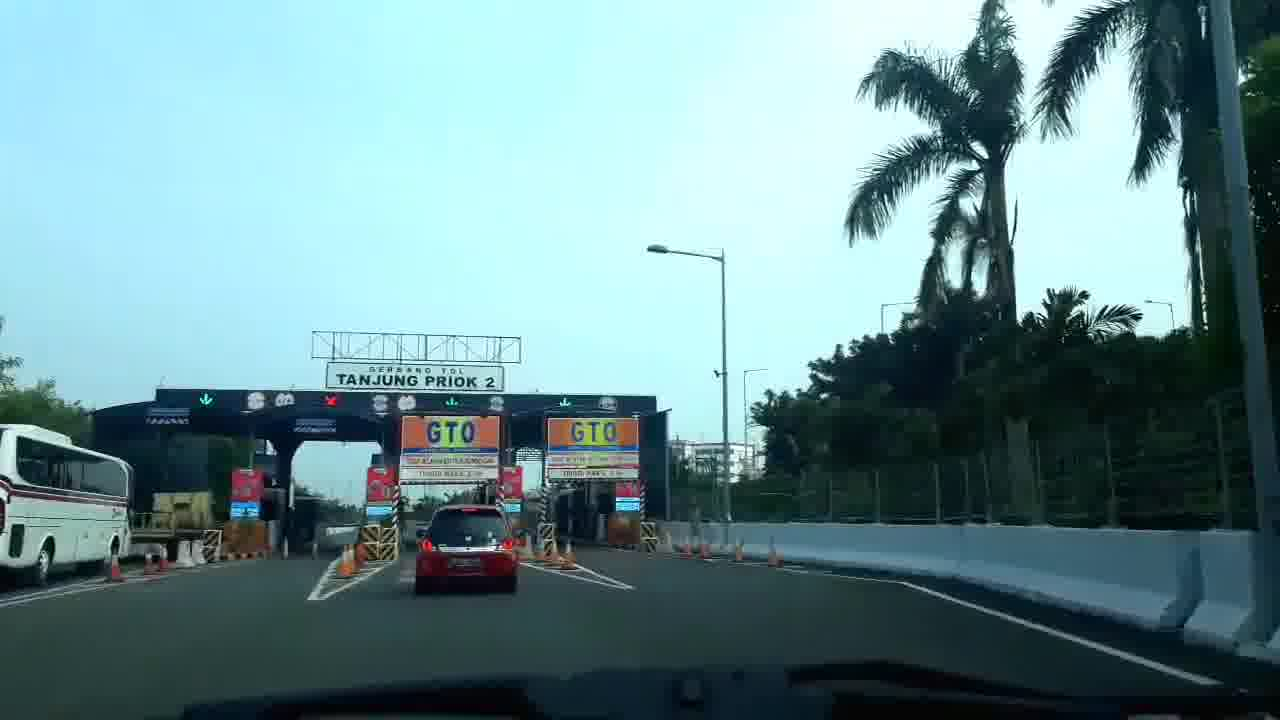plate_positive: (448, 557, 481, 567)
